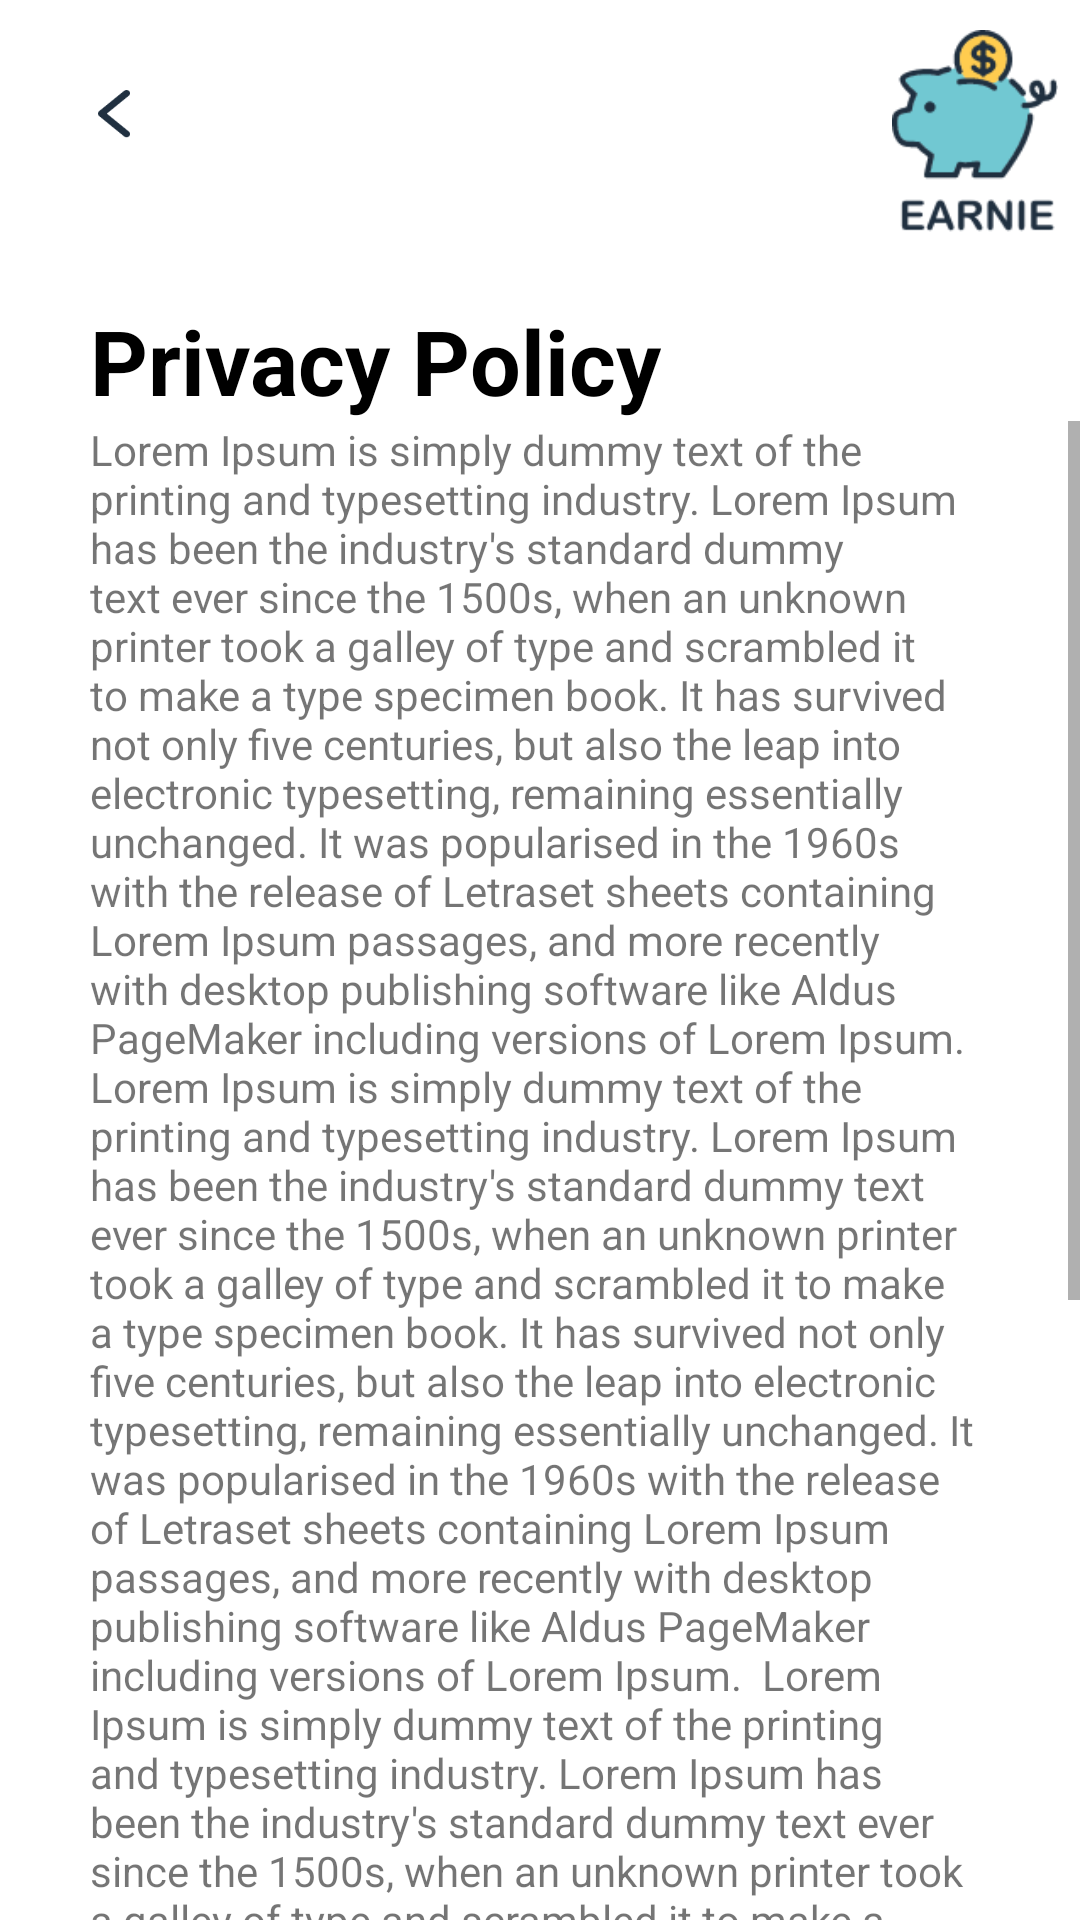

Point at icon controls on the screen. Image size 1080 × 1920, points as point (x, y).
back: point (114, 114)
